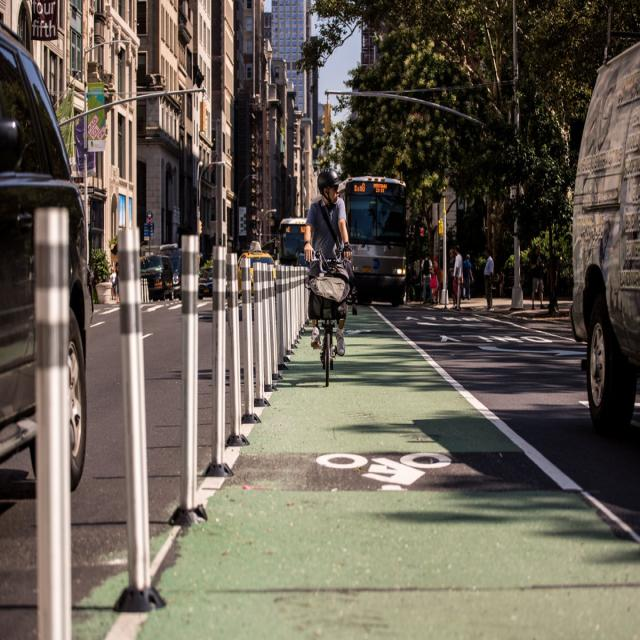body: (301, 166, 354, 359), (406, 259, 446, 302), (352, 212, 403, 245), (529, 243, 547, 311), (482, 245, 496, 312), (451, 243, 464, 310), (546, 252, 560, 314), (420, 251, 434, 305), (446, 248, 457, 311), (461, 253, 475, 301), (108, 261, 122, 304), (429, 253, 440, 304), (282, 238, 305, 262), (248, 257, 274, 267), (197, 268, 219, 278), (139, 258, 160, 267), (500, 270, 506, 298), (169, 258, 179, 271), (494, 273, 497, 280)
